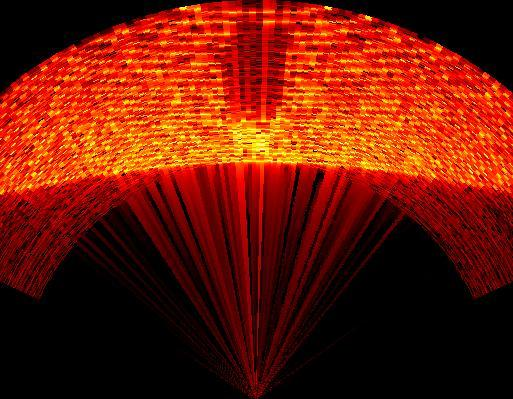box_crate: (219, 20, 299, 126)
